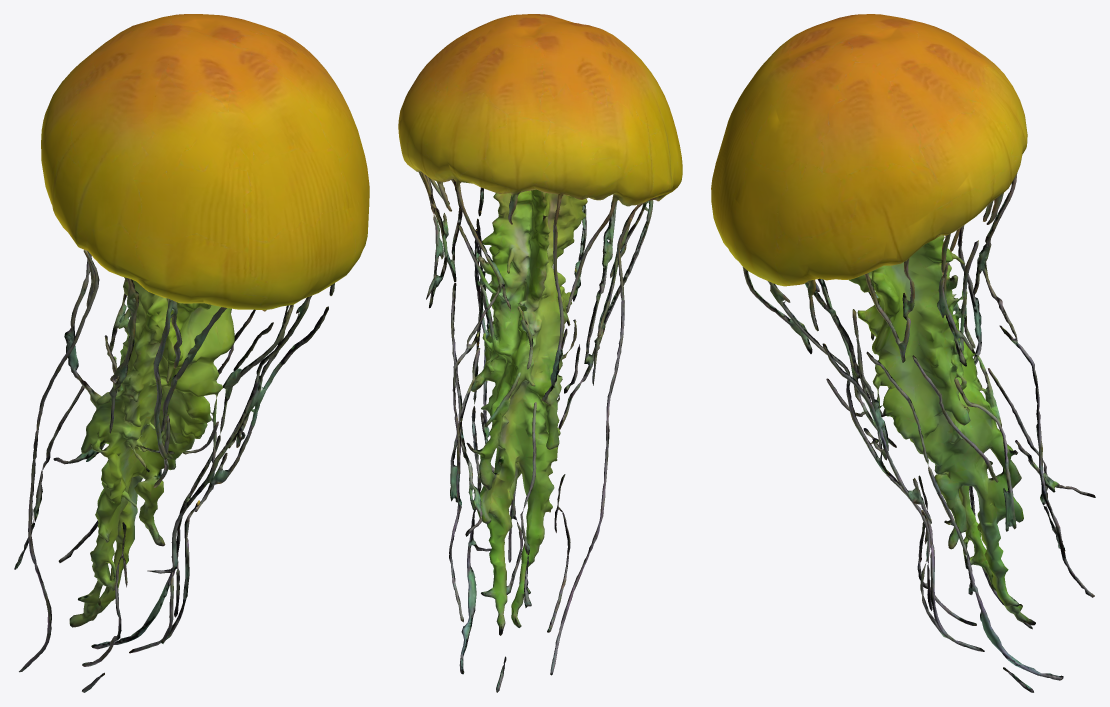
Rendered from apex-criatura-medusa.glb.
3 views of the same model, side by side, from view 1: azimuth 30°, elevation 25°; view 2: azimuth 150°, elevation 25°; view 3: azimuth 270°, elevation 25° (orthographic). The views are drawn at different scales.
Bounding box in the file's own units: 0.8385 × 2 × 1.03.
Materials: 1 (1 with a texture image).
